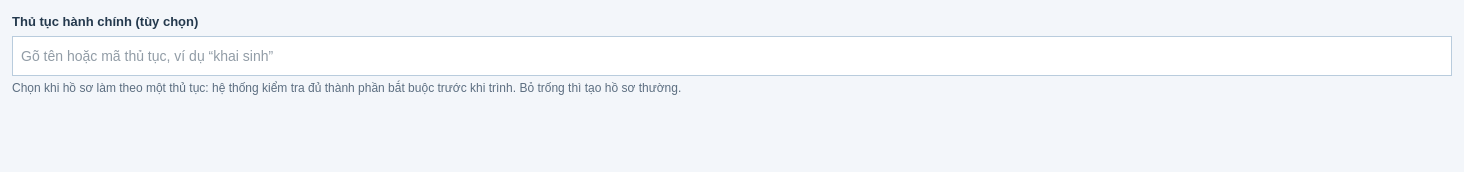
Test case: ProcedurePicker › kết quả của lần gõ cũ về muộn thì bị bỏ
The image size is (1464, 172).
Type "ab" into the dropdown at (732, 56), box [12,36,1452,76]
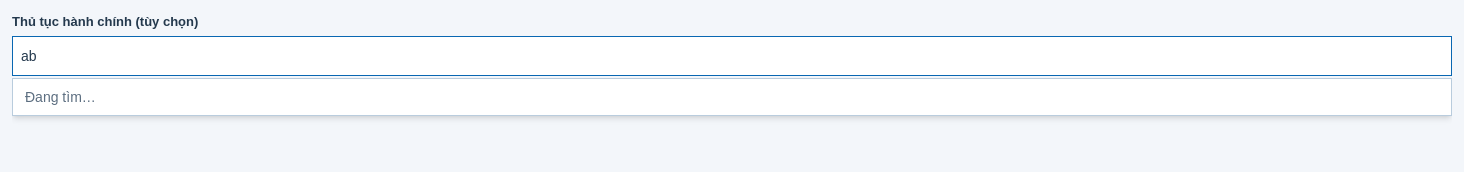
Type "c" into the dropdown at (732, 56), box [12,36,1452,76]
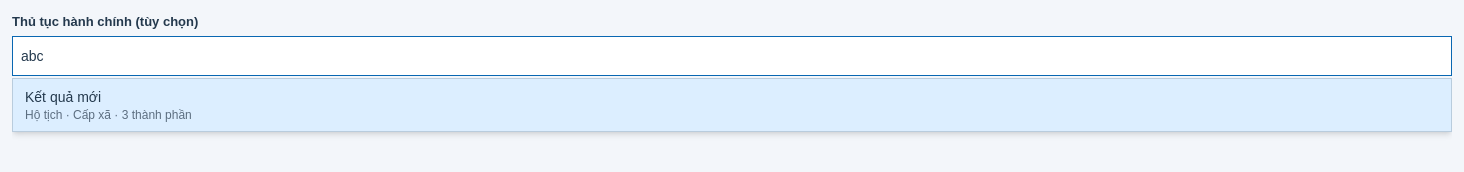
expect the option "Kết quả mới Hộ tịch · Cấp xã · 3 thành phần" is shown: met, box [13,79,1451,131]
